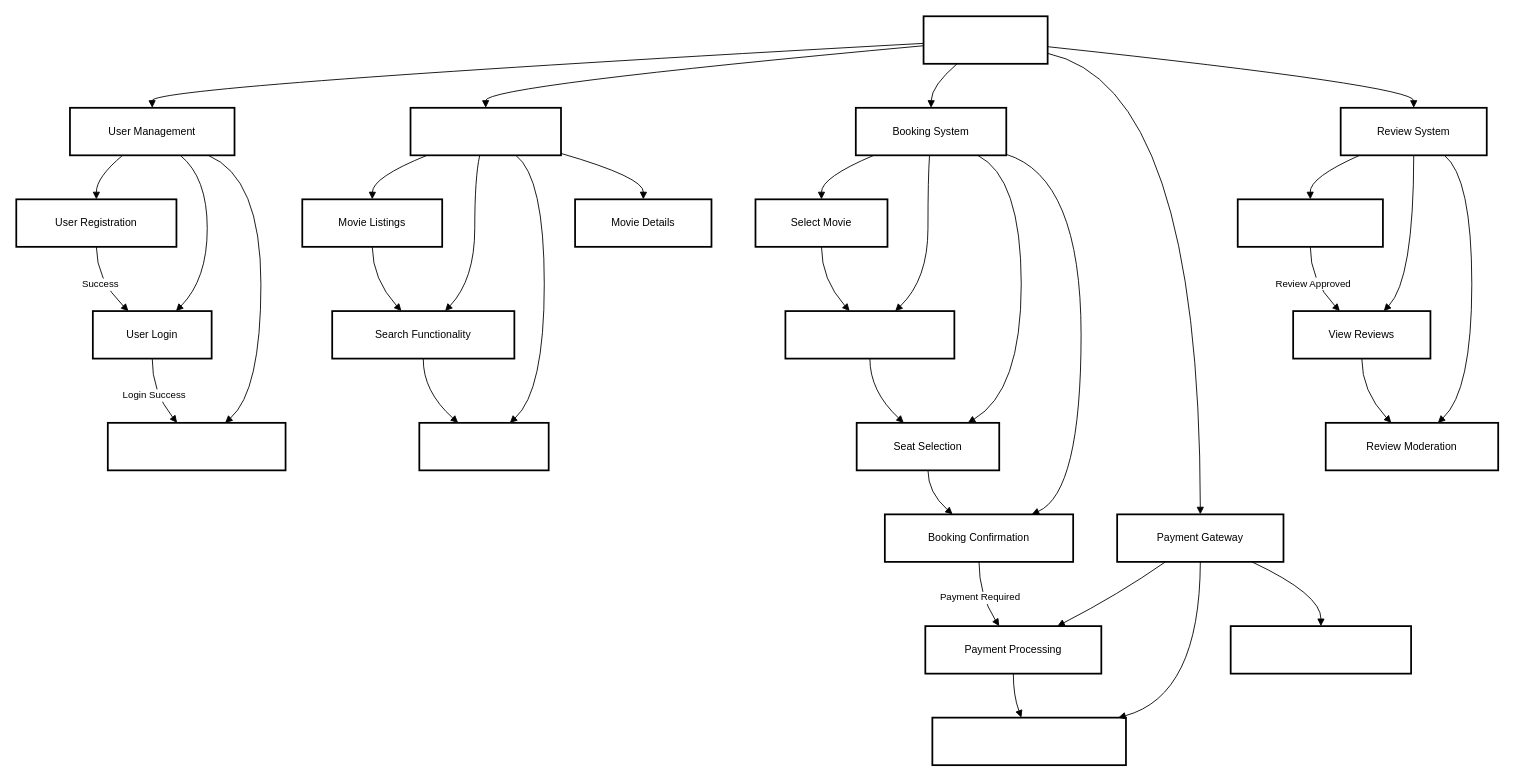
Image size: 1514x781. Some labels were removed from this diagram. The shapes that lost their labels are listed below. From the top down, each one's centre as x and y in pixels, then its label:
At point 985,39: "CinemaApp".
At point 485,131: "Movie Database".
At point 1309,222: "Submit Review".
At point 869,334: "Choose Show Time".
At point 196,446: "Profile Management".
At point 483,446: "Genre Filter".
At point 1320,649: "Refund Management".
At point 1028,741: "Payment Confirmation".
